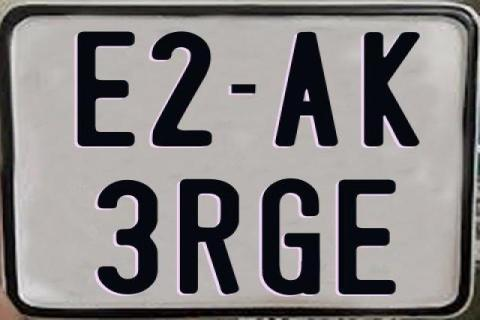0: (97, 179, 161, 297), (152, 30, 214, 148)
A: (273, 32, 337, 150)
E: (338, 177, 398, 295), (77, 29, 135, 149)
G: (259, 177, 323, 299)
K: (362, 31, 418, 146)
R: (180, 179, 242, 295)
